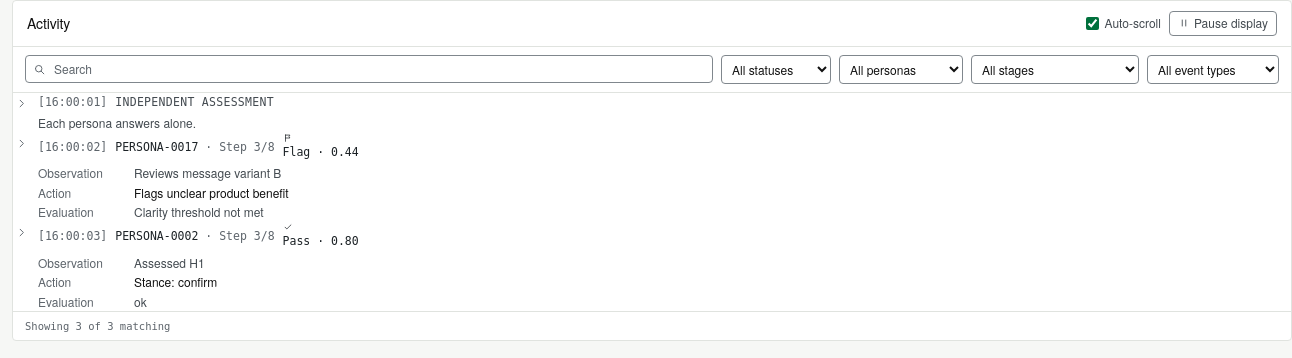
Test: ActivityFeed › filters by persona, status and search text
The width and height of the screenshot is (1292, 358).
Select "PERSONA-0002" in the 2nd dropdown named "Persona" at [901, 69], box [839, 55, 963, 84]
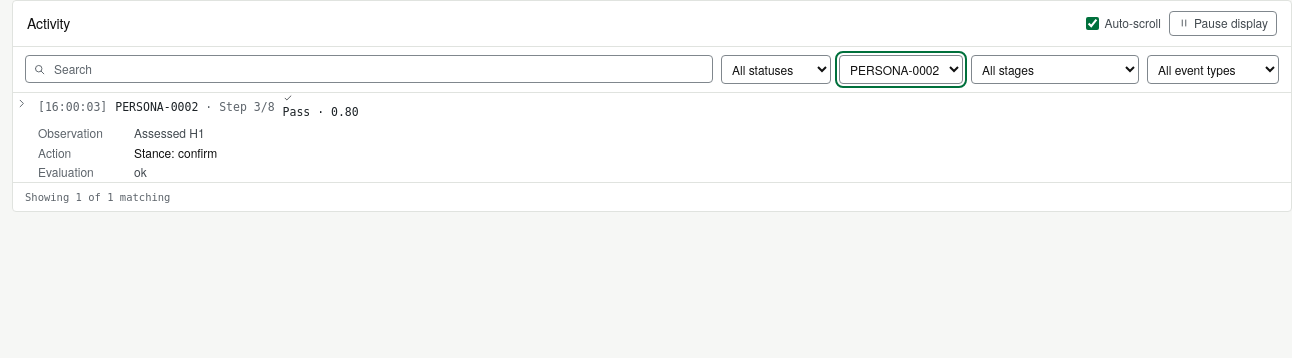
Check: the text "PERSONA-0017" is gone
Select "All personas" in the 2nd dropdown named "Persona" at [901, 69], box [839, 55, 963, 84]
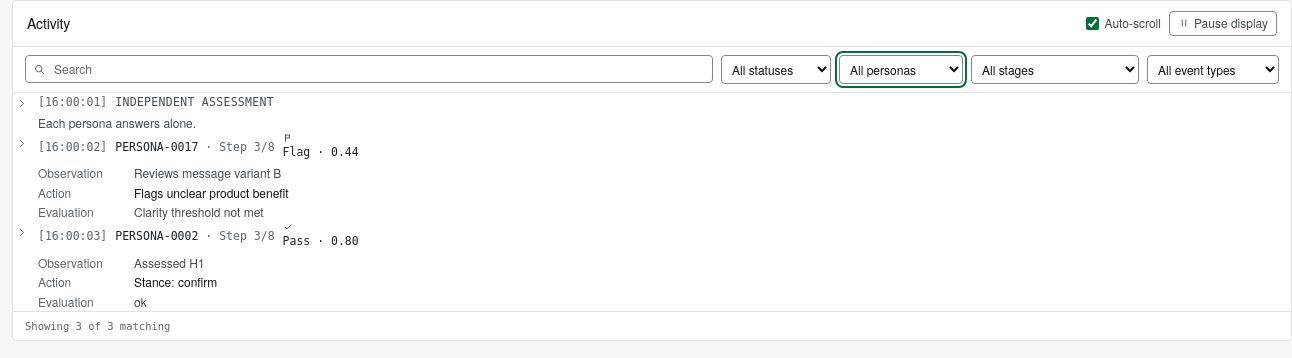
Select "Problems only" in the 1st dropdown named "Status" at [776, 69], box [721, 55, 831, 84]
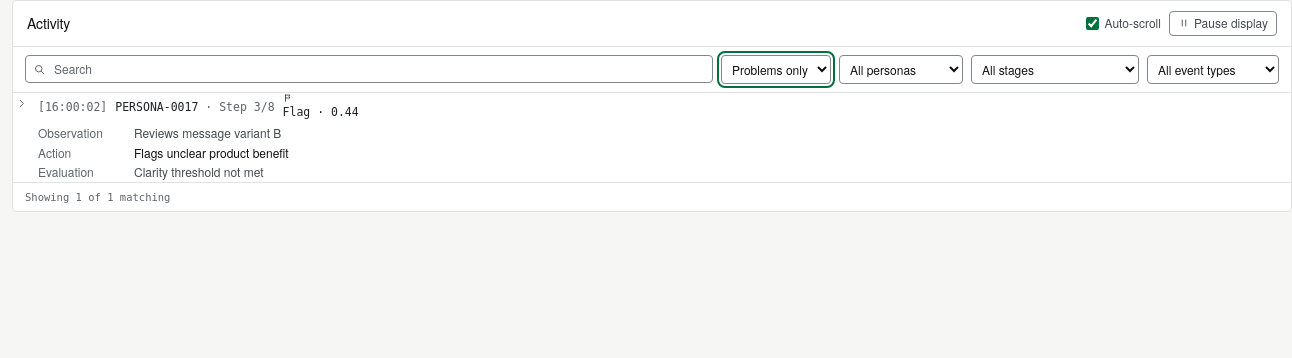
Check: the text "PERSONA-0017" is shown, box [115, 100, 198, 114]
Check: the text "PERSONA-0002" is gone
Select "All statuses" in the 1st dropdown named "Status" at [776, 69], box [721, 55, 831, 84]
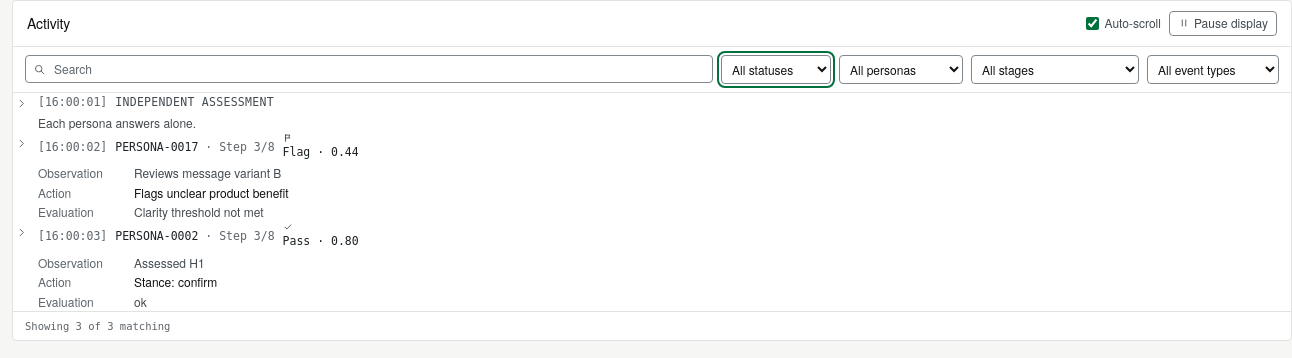
Type "unclear" into the search field named "Search activity" at [369, 69], box [25, 55, 713, 83]
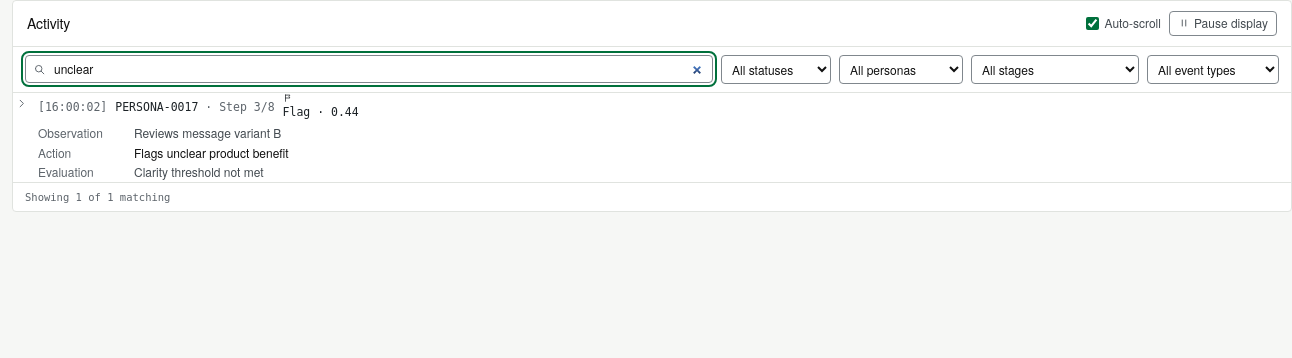
Check: the text "PERSONA-0002" is gone
